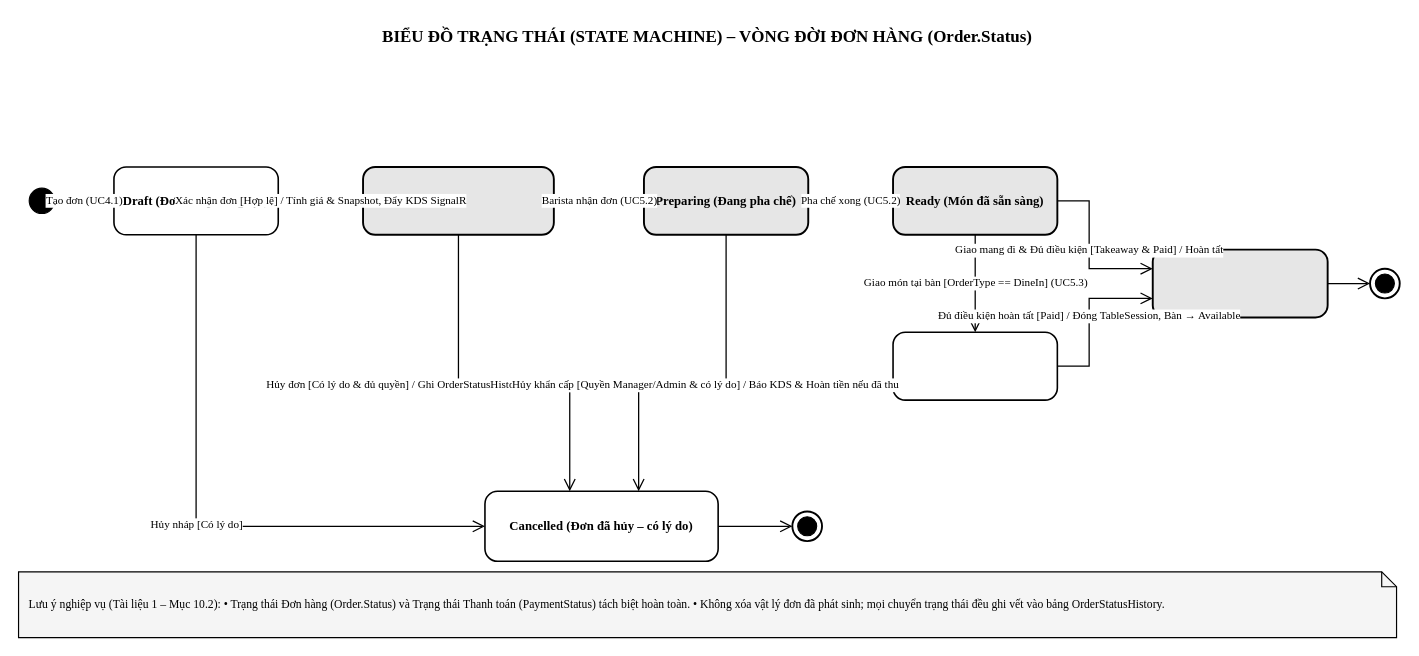
This 1419x656 diagram has some shape labels left out. The shapes that lost their labels are listed below. From the top down, each one's box as (x1, y1, x2, y2) in pixels, then its label:
(362, 165, 554, 235): Pending (Đã xác nhận, chờ pha chế)
(1151, 248, 1328, 318): Completed (Hoàn tất đơn hàng)
(892, 331, 1058, 400): Served (Đã phục vụ tại bàn)
